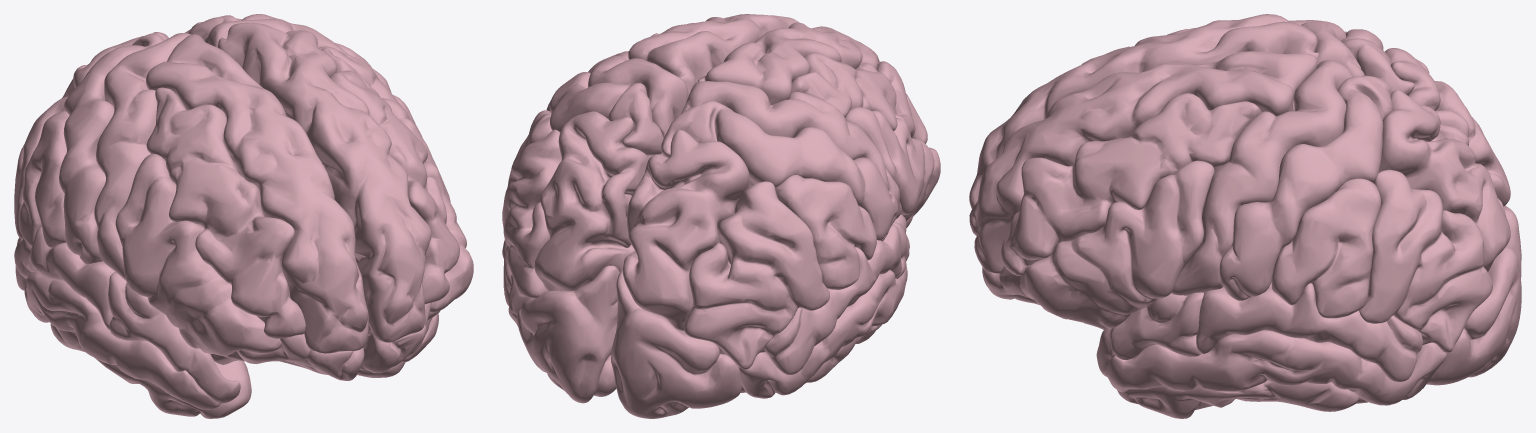
Rendered from anatomy-cerebrum.glb.
The picture shows the model from 3 angles, left to right: view 1: azimuth 30°, elevation 25°; view 2: azimuth 150°, elevation 25°; view 3: azimuth 270°, elevation 25°; orthographic projection. The views are drawn at different scales.
Visible parts, largest first — view 1: brain__FMA61830; view 2: brain__FMA61830; view 3: brain__FMA61830.
Boxes of the visible parts, bbox=[...] form: brain__FMA61830: bbox=[14, 14, 473, 418]; brain__FMA61830: bbox=[502, 14, 940, 418]; brain__FMA61830: bbox=[969, 14, 1521, 418].
Bounding box in the file's own units: 0.5419 × 0.4491 × 0.6902.
